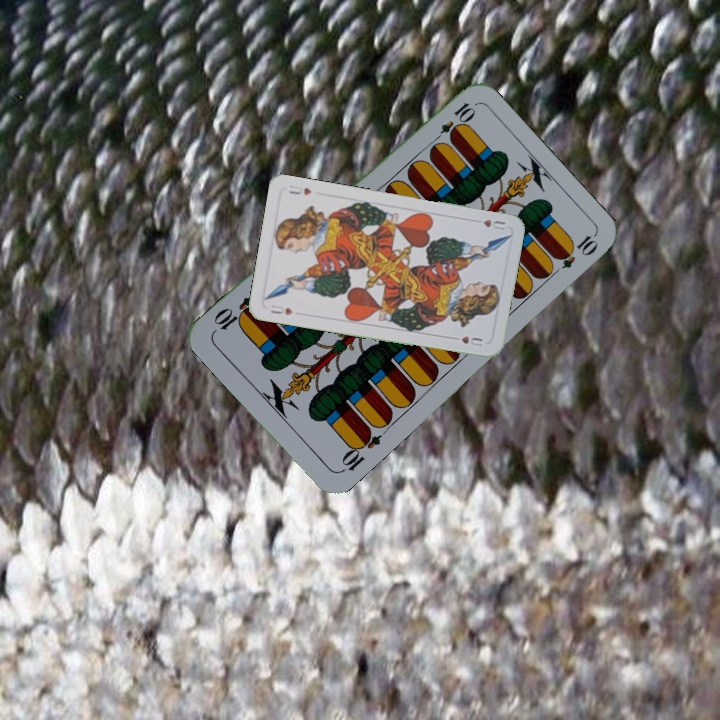E10: (336, 424, 384, 476), (428, 98, 477, 147)
HU: (267, 301, 296, 318), (479, 215, 508, 232)
